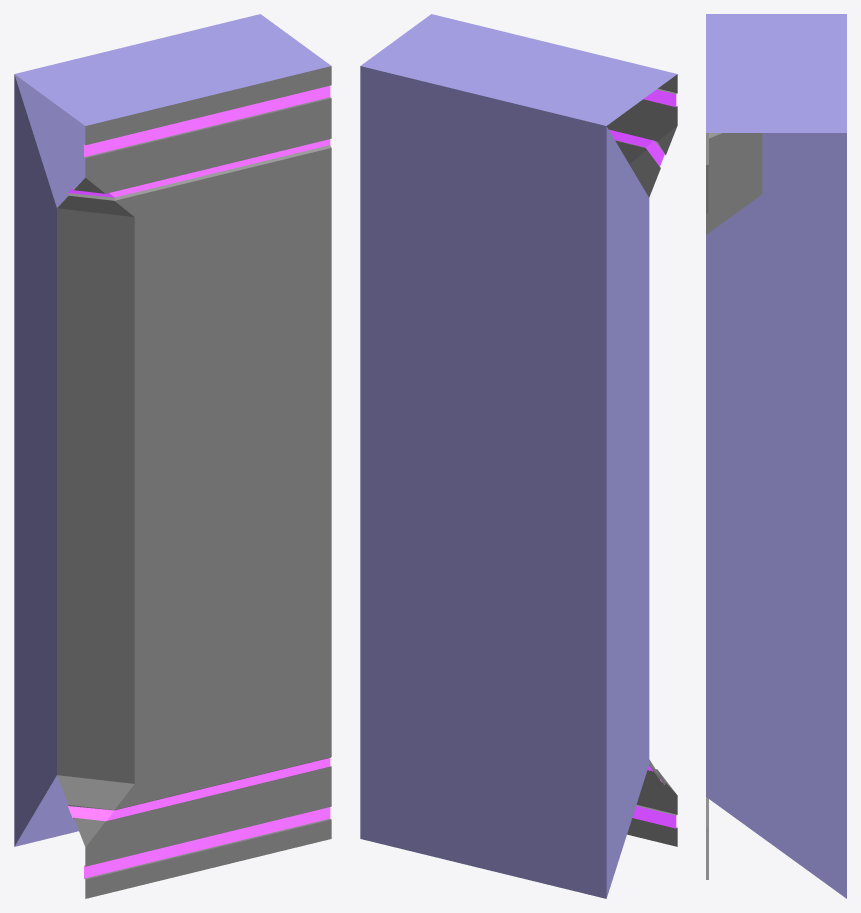
The model's file is WallFlatStart.FBX.
The picture shows the model from 3 angles, left to right: view 1: azimuth 30°, elevation 25°; view 2: azimuth 150°, elevation 25°; view 3: azimuth 270°, elevation 25°; orthographic projection.
Visible parts, largest first — view 1: WallFlatStart; view 2: WallFlatStart; view 3: WallFlatStart.
Boxes of the visible parts, left/top/right/bottom form: WallFlatStart: left=14, top=14, right=331, bottom=898; WallFlatStart: left=360, top=14, right=677, bottom=898; WallFlatStart: left=706, top=14, right=846, bottom=898.
Size of the model in its own units: 100 by 50 by 300.
